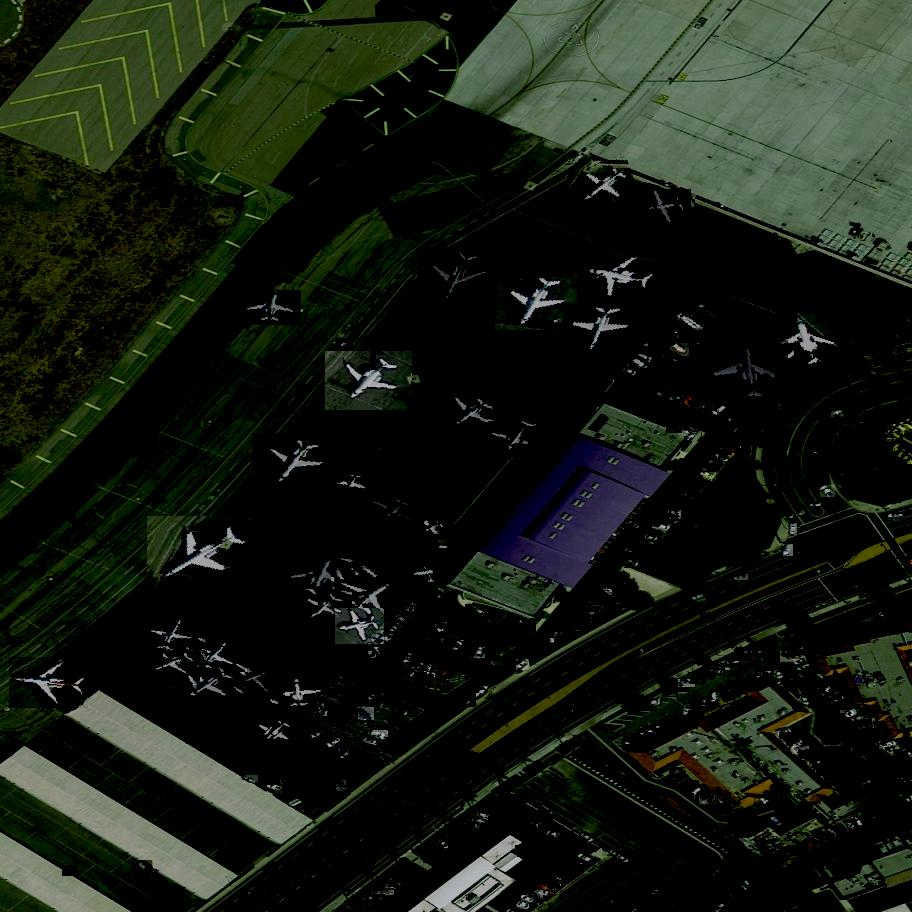large-vehicle: (695, 301, 726, 325), (676, 311, 706, 334), (856, 613, 882, 631), (710, 403, 730, 421), (670, 333, 703, 343), (630, 358, 650, 373), (795, 663, 816, 675), (336, 339, 352, 353), (636, 353, 654, 365), (62, 865, 78, 877), (435, 544, 454, 551)
plane: (148, 510, 258, 601), (325, 343, 412, 419), (332, 559, 412, 633), (706, 341, 793, 405), (253, 429, 336, 495), (496, 271, 577, 335), (417, 245, 498, 309), (172, 648, 245, 715), (577, 249, 661, 304), (220, 644, 285, 712), (9, 658, 89, 711), (570, 155, 637, 218), (439, 385, 507, 446), (140, 631, 203, 695), (770, 314, 842, 369), (285, 550, 357, 603), (233, 566, 309, 614), (563, 307, 636, 353), (484, 412, 551, 461), (184, 628, 247, 679), (639, 179, 691, 237), (299, 584, 353, 633), (141, 613, 202, 655), (368, 489, 425, 531), (244, 290, 300, 326), (250, 713, 300, 753), (336, 608, 384, 648), (273, 676, 326, 708), (414, 509, 453, 546), (337, 561, 377, 585), (410, 563, 448, 586), (333, 474, 374, 495)
small-vehicle: (131, 859, 153, 876), (475, 683, 492, 703), (670, 341, 689, 358), (323, 781, 341, 798), (666, 419, 683, 437), (790, 736, 807, 754), (644, 889, 661, 906), (822, 731, 839, 748), (832, 740, 850, 756), (817, 764, 835, 780), (851, 813, 867, 831), (780, 650, 801, 663), (358, 706, 375, 722), (377, 723, 394, 739), (690, 783, 707, 799), (682, 489, 700, 504), (834, 698, 852, 713), (825, 690, 843, 705), (355, 656, 371, 672), (515, 789, 531, 805), (388, 617, 404, 633), (675, 390, 691, 406), (719, 409, 735, 425), (390, 662, 406, 678), (596, 590, 612, 606), (539, 803, 554, 820), (732, 431, 749, 446), (711, 896, 728, 911), (675, 458, 690, 475), (820, 685, 837, 700), (814, 680, 831, 695), (445, 622, 460, 639), (325, 737, 343, 751), (652, 523, 673, 535), (779, 731, 797, 745), (845, 582, 866, 594), (407, 655, 425, 669), (674, 497, 693, 510), (714, 453, 733, 466), (840, 703, 859, 716), (462, 694, 477, 710), (348, 749, 364, 764), (481, 612, 496, 628), (687, 427, 702, 443), (820, 483, 836, 498), (443, 670, 459, 685), (368, 642, 385, 656), (580, 831, 597, 845), (391, 612, 408, 626), (869, 730, 886, 744), (755, 794, 772, 808), (316, 732, 334, 745), (521, 895, 539, 908), (577, 851, 595, 864), (629, 551, 647, 564), (365, 646, 380, 661), (740, 875, 755, 890), (679, 424, 694, 439), (897, 775, 912, 790), (824, 768, 839, 783), (429, 617, 444, 632), (617, 853, 633, 867), (736, 413, 750, 429), (685, 780, 699, 796), (738, 822, 754, 836), (575, 615, 591, 629), (700, 612, 717, 625), (574, 856, 591, 869), (664, 513, 681, 526), (874, 736, 891, 749), (803, 753, 820, 766), (669, 766, 686, 779), (614, 377, 634, 388), (852, 719, 872, 730), (376, 633, 394, 645), (371, 637, 389, 649), (342, 672, 360, 684), (563, 706, 581, 718), (338, 749, 353, 763), (544, 668, 559, 682), (352, 662, 367, 676), (540, 882, 555, 896), (528, 890, 543, 904), (399, 868, 413, 883), (523, 821, 538, 835), (438, 840, 453, 854), (698, 399, 713, 413), (879, 611, 893, 626), (430, 663, 445, 677), (459, 642, 474, 656), (421, 628, 436, 642), (368, 690, 383, 704), (407, 669, 422, 683), (772, 815, 787, 829), (764, 790, 778, 805), (836, 822, 850, 837), (722, 888, 738, 901), (550, 874, 566, 887), (410, 593, 426, 606), (783, 680, 799, 693), (424, 661, 437, 677), (402, 650, 415, 666), (436, 668, 452, 681), (530, 819, 547, 831), (384, 623, 401, 635), (624, 366, 641, 378), (619, 370, 636, 382), (402, 707, 419, 719), (390, 711, 407, 723), (787, 647, 807, 657), (566, 862, 584, 873), (634, 547, 652, 558), (836, 747, 854, 758), (792, 658, 810, 669), (516, 659, 530, 673), (360, 652, 374, 666), (321, 700, 335, 714), (556, 869, 570, 883), (451, 639, 465, 653), (437, 633, 451, 647), (421, 674, 435, 688), (466, 603, 479, 618), (406, 599, 421, 612), (685, 485, 700, 498), (885, 744, 900, 757), (889, 428, 904, 441), (889, 442, 902, 457), (726, 680, 739, 695), (804, 837, 817, 852), (437, 619, 450, 634), (525, 619, 537, 635), (444, 837, 460, 849), (700, 795, 716, 807), (828, 774, 844, 786), (266, 785, 283, 796), (624, 558, 641, 569), (728, 440, 745, 451), (728, 886, 745, 897), (792, 746, 809, 757), (813, 762, 830, 773), (334, 742, 347, 756), (692, 700, 706, 713), (891, 779, 905, 792), (895, 750, 908, 764), (895, 448, 909, 461), (466, 645, 480, 658), (430, 630, 443, 644), (415, 672, 428, 686), (468, 630, 481, 644), (423, 852, 438, 864), (629, 521, 644, 533), (785, 629, 803, 639), (483, 648, 495, 663), (475, 646, 487, 661), (438, 679, 450, 694), (428, 849, 444, 860), (472, 816, 488, 827), (646, 533, 662, 544), (828, 738, 844, 749), (884, 780, 895, 796), (799, 749, 815, 760), (453, 829, 469, 840), (583, 607, 599, 618), (775, 728, 794, 737), (518, 617, 528, 634), (561, 866, 578, 876), (499, 794, 516, 804), (544, 829, 561, 839), (786, 737, 803, 747), (640, 703, 657, 713), (678, 679, 695, 689), (837, 784, 854, 794), (830, 696, 847, 706), (363, 735, 380, 745), (604, 582, 621, 592), (333, 686, 346, 699), (490, 652, 503, 665), (400, 667, 413, 680), (510, 614, 522, 628), (547, 877, 559, 891), (449, 833, 463, 845), (415, 589, 429, 601), (694, 397, 706, 411), (728, 412, 740, 426), (774, 668, 786, 682), (417, 658, 429, 672), (495, 642, 509, 654), (391, 699, 403, 713), (460, 628, 472, 642), (454, 625, 466, 639), (538, 642, 552, 654), (823, 828, 837, 840), (817, 831, 829, 845), (310, 731, 325, 742), (735, 882, 750, 893), (477, 633, 488, 648), (745, 819, 760, 830), (879, 741, 897, 750), (665, 510, 685, 518), (700, 472, 716, 482), (818, 729, 834, 739), (662, 689, 678, 699), (733, 653, 753, 661), (892, 424, 908, 434), (243, 775, 259, 785), (808, 836, 824, 846), (549, 630, 561, 643), (684, 396, 697, 408), (835, 778, 848, 790), (483, 638, 495, 651), (764, 818, 777, 830), (830, 825, 843, 837), (800, 694, 811, 708), (844, 819, 858, 830), (516, 901, 533, 910), (533, 889, 550, 898), (603, 848, 620, 857), (849, 716, 866, 725), (797, 644, 814, 653), (739, 649, 758, 657), (537, 816, 552, 826), (459, 825, 474, 835), (695, 477, 710, 487), (718, 895, 733, 905), (846, 709, 861, 719), (389, 718, 404, 728), (691, 594, 707, 603), (347, 669, 363, 678), (637, 544, 655, 552), (853, 761, 869, 770), (864, 729, 880, 738), (644, 698, 662, 706), (811, 757, 823, 769), (857, 725, 873, 734), (516, 845, 532, 854), (569, 623, 587, 631), (625, 542, 636, 555), (719, 685, 730, 698), (273, 780, 287, 790), (796, 843, 810, 853), (789, 847, 803, 857), (384, 882, 401, 890), (708, 667, 725, 675), (371, 731, 388, 739), (716, 827, 731, 836), (336, 781, 347, 793), (707, 402, 717, 415), (386, 696, 396, 709), (380, 631, 396, 639), (466, 822, 482, 830), (849, 757, 865, 765), (690, 677, 706, 685), (367, 894, 385, 901), (327, 693, 342, 701), (392, 876, 407, 884), (600, 589, 615, 597), (358, 762, 375, 769), (831, 410, 844, 419), (491, 641, 500, 654), (735, 574, 749, 582), (642, 540, 658, 547), (690, 483, 706, 490), (727, 659, 743, 666), (630, 862, 644, 870), (579, 613, 595, 620), (655, 722, 665, 733), (723, 446, 741, 452), (737, 679, 746, 691), (623, 738, 632, 750), (682, 708, 691, 720), (398, 612, 415, 618), (672, 687, 689, 693), (784, 545, 793, 556), (477, 813, 491, 820), (361, 901, 377, 907), (748, 675, 756, 687), (701, 697, 709, 709), (665, 716, 673, 728), (375, 890, 394, 895), (811, 442, 818, 455), (354, 718, 372, 723), (639, 730, 648, 740), (756, 668, 764, 679), (645, 407, 662, 412), (402, 609, 418, 614), (592, 600, 608, 605), (810, 680, 823, 686), (791, 523, 797, 535), (886, 514, 904, 518), (711, 691, 717, 702), (313, 710, 329, 714), (699, 673, 715, 677), (715, 665, 735, 668), (438, 555, 455, 558), (649, 727, 654, 737), (633, 736, 638, 744), (884, 440, 897, 443)
